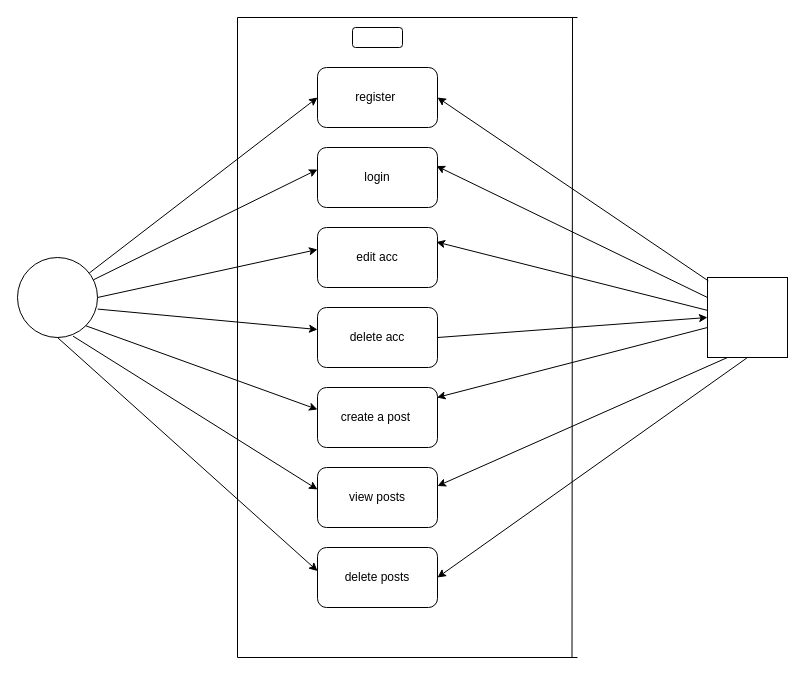
Some shapes in this 805 by 676 pixel diagram are drawn without their labels. Here are the shapes that lost their labels. From the top down, the box of each, then its label:
(352, 26, 402, 48): container
(16, 256, 98, 338): user
(706, 276, 788, 358): DB
